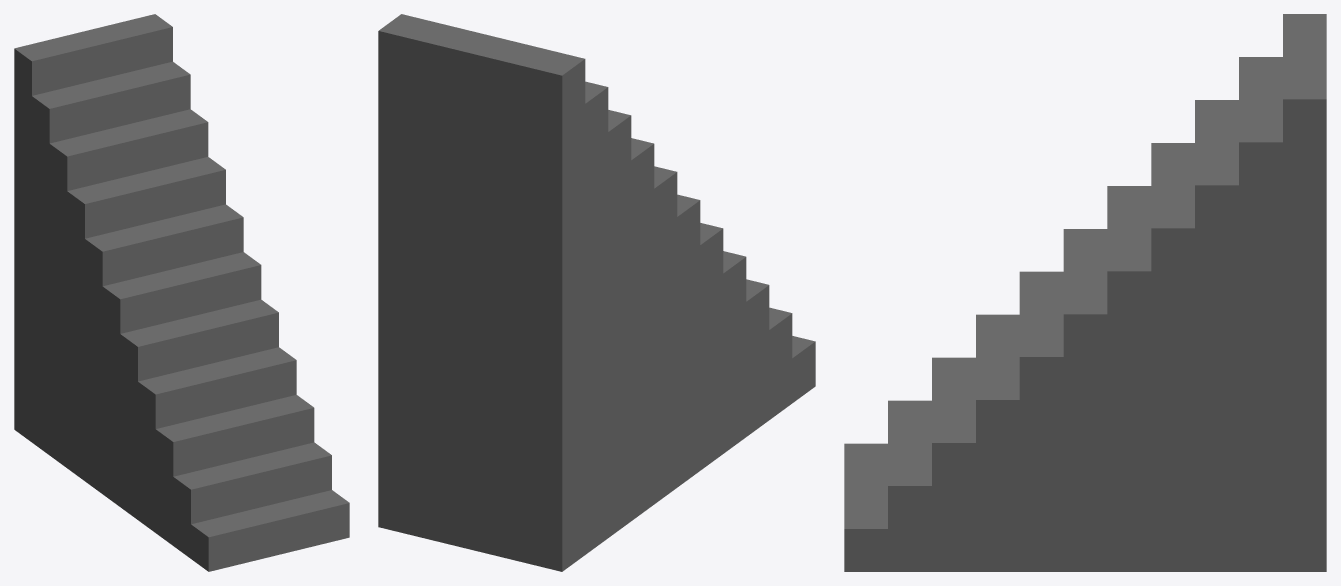
The model's file is Itr_Stair_05.FBX.
The picture shows the model from 3 angles, left to right: view 1: azimuth 30°, elevation 25°; view 2: azimuth 150°, elevation 25°; view 3: azimuth 270°, elevation 25°; orthographic projection. The views are drawn at different scales.
Visible parts, largest first — view 1: Itr_Stair_05; view 2: Itr_Stair_05; view 3: Itr_Stair_05.
Part boxes in pixels (left/top/right/bottom): Itr_Stair_05: left=14, top=14, right=349, bottom=571; Itr_Stair_05: left=378, top=14, right=815, bottom=571; Itr_Stair_05: left=844, top=14, right=1326, bottom=571.
Size of the model in its own units: 41.94 by 108 by 100.
